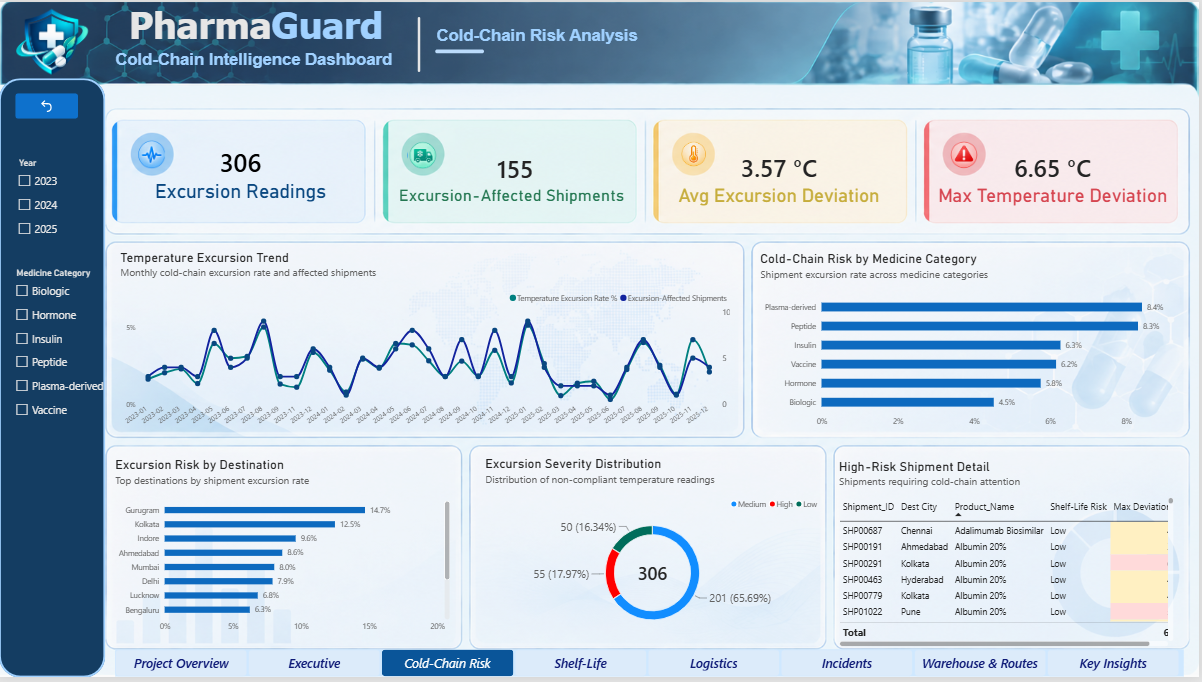

Layout of this report page (visuals, bound fields, positions):
{"tool":"powerbi","page":{"name":"Cold-Chain Risk","canvas":[1920,1080],"ordinal":2},"visuals":[{"type":"textbox","box":[207.8,0,510.7,75.7],"z":0},{"type":"textbox","box":[186.1,75.7,484.8,71.4],"z":1000},{"type":"shape","box":[582,24,180,88],"z":2000},{"type":"textbox","box":[150,597,300,300],"z":3000},{"type":"textbox","box":[699,39,328.9,41.1],"z":4000},{"type":"image","box":[0,6,168,114],"z":5000},{"type":"shape","box":[698,38,78,82],"z":6000},{"type":"shape","box":[0,121.2,170,958.8],"z":7000},{"type":"image","box":[200.7,220,87.9,48.6],"z":8000},{"type":"image","box":[622.7,222.7,109.1,51.8],"z":9000},{"type":"image","box":[1065.5,216.4,92.7,56.4],"z":10000},{"type":"image","box":[1502.7,216.4,83.6,56.4],"z":11000},{"type":"cardVisual","title":"Total Shipments","fields":{"Data":["_Measures.Excursion Readings"]},"box":[177.5,188.3,417.7,173.1],"z":12000},{"type":"cardVisual","title":"Total Shipments","fields":{"Data":["_Measures.Excursion-Affected Shipments"]},"box":[623.3,203.4,404.7,158],"z":13000},{"type":"cardVisual","title":"Total Shipments","fields":{"Data":["_Measures.Avg Excursion Deviation °C"]},"box":[1045.3,203.4,404.7,158],"z":14000},{"type":"cardVisual","title":"Total Shipments","fields":{"Data":["_Measures.Max Temperature Deviation °C"]},"box":[1484.6,203.4,404.7,158],"z":15000},{"type":"slicer","fields":{"Values":["Dim_Date.Year"]},"box":[24.5,247.3,109.1,183.6],"z":16000},{"type":"lineChart","title":"Temperature Excursion Trend","fields":{"Category":["Dim_Date.Year_Month"],"Y":["_Measures.Temperature Excursion Rate %"],"Y2":["_Measures.Excursion-Affected Shipments"]},"box":[177.1,382.9,1007.1,315.7],"z":17000},{"type":"clusteredBarChart","title":"Cold-Chain Risk by Medicine Category","fields":{"Category":["Products.Medicine_Category"],"Y":["_Measures.Shipment Excursion Rate %"]},"box":[1201.1,383.3,687.7,316.7],"z":18000},{"type":"clusteredBarChart","title":"Excursion Risk by Destination","fields":{"Category":["Routes.Destination_City"],"Y":["_Measures.Shipment Excursion Rate %"]},"box":[171,714.2,567,313.8],"z":19000},{"type":"donutChart","title":"Excursion Severity Distribution","fields":{"Category":["Sensor_Readings.Excursion Severity"],"Y":["CountNonNull(Sensor_Readings.Reading_ID)"]},"box":[762.5,712.5,567,313.8],"z":20000},{"type":"slicer","fields":{"Values":["Products.Medicine_Category"]},"box":[19,424,158.8,275],"z":21000},{"type":"tableEx","title":"High-Risk Shipment Detail","fields":{"Values":["Shipments.Shipment_ID","Routes.Destination_City","Products.Product_Name","Shipments.Shelf_Life_Risk","Max(Sensor_Readings.Temperature_Deviation_C)"]},"box":[1328.8,716.3,567,331.1],"z":22000},{"type":"pageNavigator","box":[186.1,1036.6,1709.7,43.3],"z":23000},{"type":"actionButton","box":[25,146.7,100.6,40.8],"z":24000}]}

Visuals, with their boxes on the page's 1920x1080 design canvas (x1, y1, x2, y2). These are canvas units, not pixel positions in the 1202x682 screenshot, which may show the page scaled, cropped or inside an application window:
textbox: box(208, 0, 718, 76)
textbox: box(186, 76, 671, 147)
shape: box(582, 24, 762, 112)
textbox: box(150, 597, 450, 897)
textbox: box(699, 39, 1028, 80)
image: box(0, 6, 168, 120)
shape: box(698, 38, 776, 120)
shape: box(0, 121, 170, 1080)
image: box(201, 220, 289, 269)
image: box(623, 223, 732, 274)
image: box(1066, 216, 1158, 273)
image: box(1503, 216, 1586, 273)
"Total Shipments" cardVisual: box(178, 188, 595, 361)
"Total Shipments" cardVisual: box(623, 203, 1028, 361)
"Total Shipments" cardVisual: box(1045, 203, 1450, 361)
"Total Shipments" cardVisual: box(1485, 203, 1889, 361)
slicer - Dim_Date.Year: box(24, 247, 134, 431)
"Temperature Excursion Trend" lineChart: box(177, 383, 1184, 699)
"Cold-Chain Risk by Medicine Category" clusteredBarChart: box(1201, 383, 1889, 700)
"Excursion Risk by Destination" clusteredBarChart: box(171, 714, 738, 1028)
"Excursion Severity Distribution" donutChart: box(762, 712, 1330, 1026)
slicer - Products.Medicine_Category: box(19, 424, 178, 699)
"High-Risk Shipment Detail" tableEx: box(1329, 716, 1896, 1047)
pageNavigator: box(186, 1037, 1896, 1080)
actionButton: box(25, 147, 126, 188)
